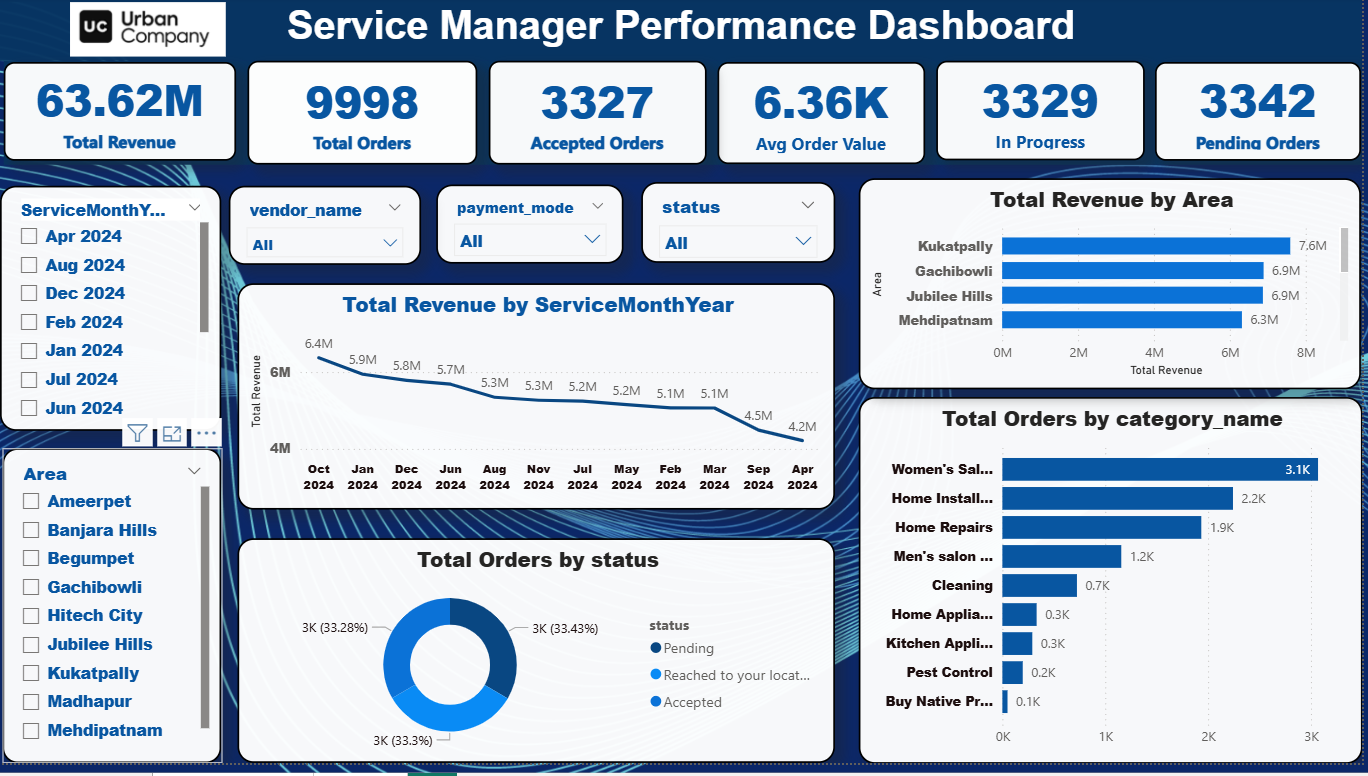

The dashboard page shown, as its layout file describes it:
{"tool":"powerbi","page":{"name":"ServiceManager ","canvas":[1280,720],"ordinal":0},"visuals":[{"type":"card","fields":{"Values":["customers_vendors_with_area.Total Revenue"]},"box":[3.5,61.4,218.5,92.8],"z":0,"group":"g1"},{"type":"slicer","fields":{"Values":["customers_vendors_with_area.ServiceMonthYear"]},"box":[0,177.4,208,230.3],"z":0},{"type":"slicer","fields":{"Values":["customers_vendors_with_area.status"]},"box":[602.7,173.9,182.1,76.4],"z":1000,"group":"g2"},{"type":"slicer","fields":{"Values":["customers_vendors_with_area.Area"]},"box":[2.7,424,205.8,296.4],"z":1000},{"type":"donutChart","fields":{"Category":["customers_vendors_with_area.status"],"Y":["customers_vendors_with_area.Total Orders"]},"box":[223.2,508.7,561.6,211.5],"z":2000},{"type":"slicer","fields":{"Values":["customers_vendors_with_area.payment_mode"]},"box":[410,176.1,176.2,74],"z":3000,"group":"g2"},{"type":"lineChart","fields":{"Y":["customers_vendors_with_area.Total Revenue"],"Category":["customers_vendors_with_area.ServiceMonthYear"]},"box":[223.2,269.1,561.6,212.7],"z":3000},{"type":"slicer","fields":{"Values":["customers_vendors_with_area.vendor_name"]},"box":[215,177.1,180.9,74],"z":4000,"group":"g2"},{"type":"barChart","fields":{"Category":["category.category_name"],"Y":["customers_vendors_with_area.Total Orders"]},"box":[806.9,376,473.4,344.4],"z":4000},{"type":"textbox","box":[0,0,1280.3,60.4],"z":5000},{"type":"group","id":"g1","title":"Group 1","box":[3.5,59.9,1276,97.5],"z":6000},{"type":"card","fields":{"Values":["customers_vendors_with_area.Total Orders"]},"box":[232.3,60,216.2,97.5],"z":6000,"group":"g1"},{"type":"card","fields":{"Values":["customers_vendors_with_area.Avg Order Value"]},"box":[674.5,61.1,195,96.3],"z":7000,"group":"g1"},{"type":"group","id":"g2","title":"Group 2","box":[215,173.9,569.8,77.5],"z":7000},{"type":"card","fields":{"Values":["customers_vendors_with_area.Accepted Orders"]},"box":[459.6,59.9,204.4,97.5],"z":8000,"group":"g1"},{"type":"barChart","fields":{"Category":["customers_vendors_with_area.Area"],"Y":["customers_vendors_with_area.Total Revenue"]},"box":[807.2,170.4,472.3,198.6],"z":8000},{"type":"image","box":[45.8,0,186.8,61.1],"z":9000},{"type":"card","fields":{"Values":["customers_vendors_with_area.Reached Orders"]},"box":[880.1,60,196.2,94],"z":9000,"group":"g1"},{"type":"card","fields":{"Values":["customers_vendors_with_area.Pending Orders"]},"box":[1085.8,61.1,193.9,92.8],"z":10000,"group":"g1"}]}

Visuals, with their boxes in screenshot pixels (x1, y1, x2, y2), scaled from the page's 1280x720 canvas onto the 1368x776 screenshot:
card - customers_vendors_with_area.Total Revenue: region(4, 66, 237, 166)
slicer - customers_vendors_with_area.ServiceMonthYear: region(0, 191, 222, 439)
slicer - customers_vendors_with_area.status: region(644, 187, 839, 270)
slicer - customers_vendors_with_area.Area: region(3, 457, 223, 775)
donutChart - customers_vendors_with_area.status x customers_vendors_with_area.Total Orders: region(239, 548, 839, 775)
slicer - customers_vendors_with_area.payment_mode: region(438, 190, 627, 270)
lineChart - customers_vendors_with_area.Total Revenue x customers_vendors_with_area.ServiceMonthYear: region(239, 290, 839, 519)
slicer - customers_vendors_with_area.vendor_name: region(230, 191, 423, 271)
barChart - category.category_name x customers_vendors_with_area.Total Orders: region(862, 405, 1367, 775)
textbox: region(0, 0, 1367, 65)
"Group 1" group: region(4, 65, 1367, 170)
card - customers_vendors_with_area.Total Orders: region(248, 65, 479, 170)
card - customers_vendors_with_area.Avg Order Value: region(721, 66, 929, 170)
"Group 2" group: region(230, 187, 839, 271)
card - customers_vendors_with_area.Accepted Orders: region(491, 65, 710, 170)
barChart - customers_vendors_with_area.Area x customers_vendors_with_area.Total Revenue: region(863, 184, 1367, 398)
image: region(49, 0, 249, 66)
card - customers_vendors_with_area.Reached Orders: region(941, 65, 1150, 166)
card - customers_vendors_with_area.Pending Orders: region(1160, 66, 1367, 166)
